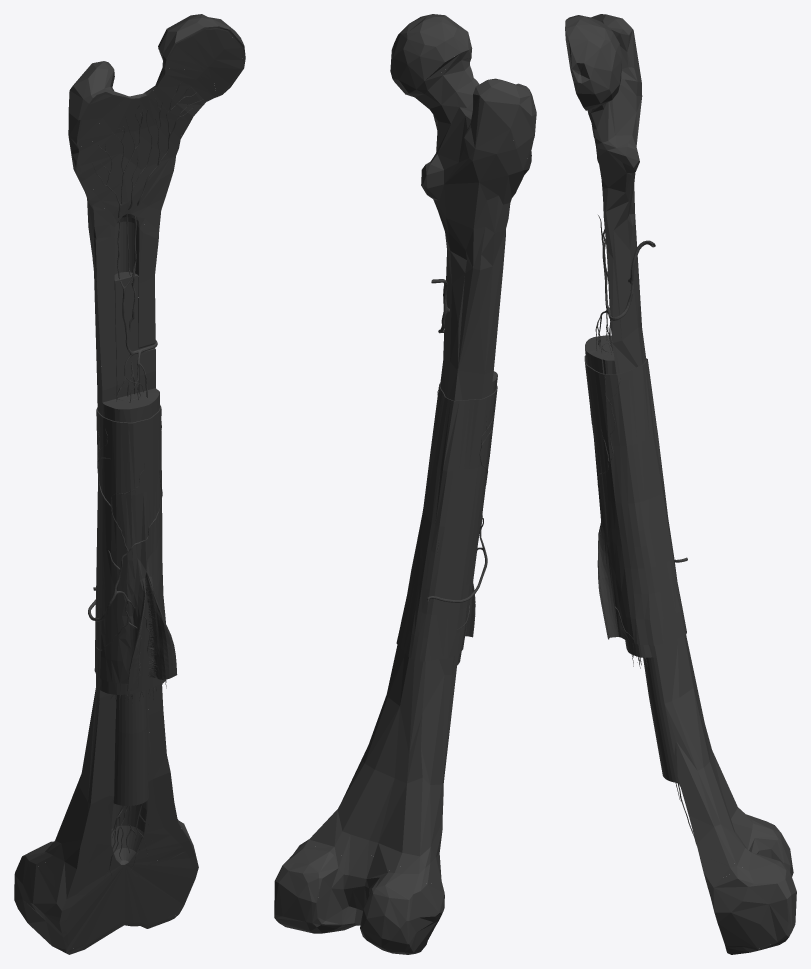
Rendered from sharedassets72.glb.
3 views of the same model, side by side, from view 1: azimuth 30°, elevation 25°; view 2: azimuth 150°, elevation 25°; view 3: azimuth 270°, elevation 25° (orthographic). The views are drawn at different scales.
Parts seen in each view (by area): view 1: 0014_Compact bone _of diaphysis___303373, 0002_Spongy bone _of diaphysis___303375, 0011_Periosteum__303632, 0007_Yellow bone marrow__303376, 0006_Spongy bone _of distal epiphysis___30337, 0010_Compact bone _of distal epiphysis___3033, 0015_Spongy bone _of proximal epiphysis___303, 0008_Nutrient artery__303381, 0000_Medullary cavity__303374, 0013_Epiphyseal plates__303380, 0005_Perforating _Sharpey_s_ fibers__303383, 0009_Compact bone _of proximal epiphysis___30 (+3 smaller); view 2: 0014_Compact bone _of diaphysis___303373, 0011_Periosteum__303632, 0010_Compact bone _of distal epiphysis___3033, 0001_Articular cartilage _distal end___303370, 0004_Articular cartilage, posterior part of f, 0009_Compact bone _of proximal epiphysis___30, 0013_Epiphyseal plates__303380, 0003_Periosteal artery__303631; view 3: 0014_Compact bone _of diaphysis___303373, 0011_Periosteum__303632, 0010_Compact bone _of distal epiphysis___3033, 0004_Articular cartilage, posterior part of f, 0007_Yellow bone marrow__303376, 0001_Articular cartilage _distal end___303370, 0008_Nutrient artery__303381, 0013_Epiphyseal plates__303380, 0009_Compact bone _of proximal epiphysis___30.
Boxes of the visible parts, left/top/right/bottom form: 0014_Compact bone _of diaphysis___303373: left=43, top=61, right=208, bottom=888; 0002_Spongy bone _of diaphysis___303375: left=79, top=68, right=208, bottom=887; 0011_Periosteum__303632: left=94, top=405, right=165, bottom=690; 0007_Yellow bone marrow__303376: left=113, top=272, right=148, bottom=805; 0006_Spongy bone _of distal epiphysis___30337: left=66, top=851, right=192, bottom=950; 0010_Compact bone _of distal epiphysis___3033: left=14, top=822, right=198, bottom=953; 0015_Spongy bone _of proximal epiphysis___303: left=78, top=29, right=242, bottom=148; 0008_Nutrient artery__303381: left=92, top=79, right=203, bottom=878; 0000_Medullary cavity__303374: left=111, top=214, right=147, bottom=864; 0013_Epiphyseal plates__303380: left=35, top=50, right=216, bottom=895; 0005_Perforating _Sharpey_s_ fibers__303383: left=128, top=573, right=177, bottom=691; 0009_Compact bone _of proximal epiphysis___30: left=68, top=61, right=121, bottom=150; 0014_Compact bone _of diaphysis___303373: left=312, top=58, right=531, bottom=875; 0011_Periosteum__303632: left=396, top=383, right=497, bottom=661; 0010_Compact bone _of distal epiphysis___3033: left=283, top=842, right=444, bottom=952; 0001_Articular cartilage _distal end___303370: left=274, top=862, right=419, bottom=954; 0004_Articular cartilage, posterior part of f: left=390, top=14, right=472, bottom=94; 0009_Compact bone _of proximal epiphysis___30: left=473, top=78, right=536, bottom=148; 0013_Epiphyseal plates__303380: left=305, top=49, right=531, bottom=883; 0003_Periosteal artery__303631: left=426, top=390, right=494, bottom=629; 0014_Compact bone _of diaphysis___303373: left=585, top=49, right=746, bottom=875; 0011_Periosteum__303632: left=584, top=355, right=686, bottom=645; 0010_Compact bone _of distal epiphysis___3033: left=707, top=816, right=788, bottom=948; 0004_Articular cartilage, posterior part of f: left=565, top=15, right=621, bottom=110; 0007_Yellow bone marrow__303376: left=602, top=292, right=679, bottom=782; 0001_Articular cartilage _distal end___303370: left=725, top=824, right=796, bottom=954; 0008_Nutrient artery__303381: left=591, top=124, right=696, bottom=845; 0013_Epiphyseal plates__303380: left=619, top=40, right=753, bottom=883; 0009_Compact bone _of proximal epiphysis___30: left=591, top=14, right=634, bottom=42.
Size of the model in its own units: 0.0523 by 0.2489 by 0.0572.
1 material, 1 textured.
